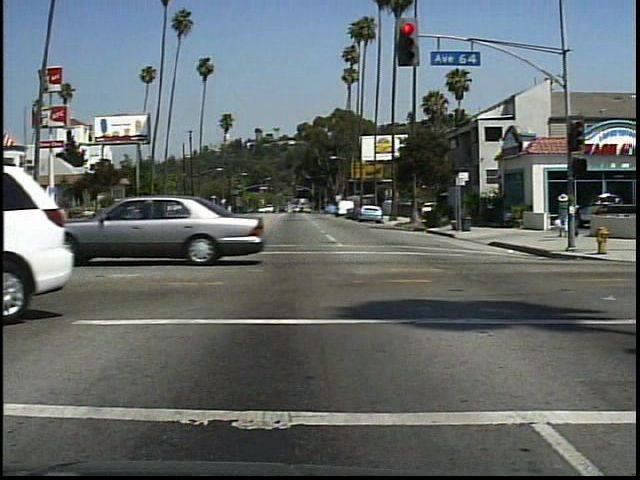person: (552, 189, 570, 241)
